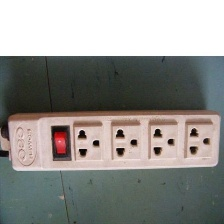three_eye_plug: (2, 105, 224, 174)
